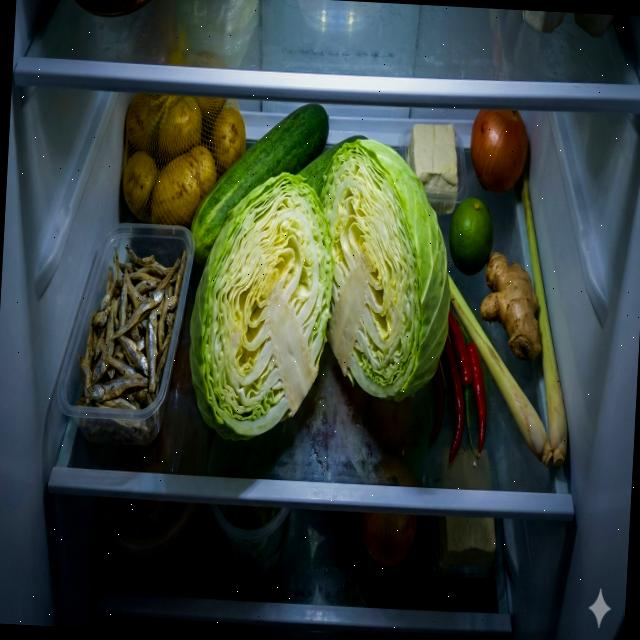anchovies: (73, 244, 188, 446)
cabbage: (184, 168, 338, 447), (310, 137, 459, 405)
chili: (434, 307, 492, 465)
cucumber: (189, 97, 331, 270)
ginger: (477, 250, 547, 362)
lemongrass: (438, 174, 582, 470)
lime: (446, 195, 496, 278)
onion: (467, 106, 530, 197)
potato: (120, 90, 249, 231)
tofu: (404, 120, 462, 216)
